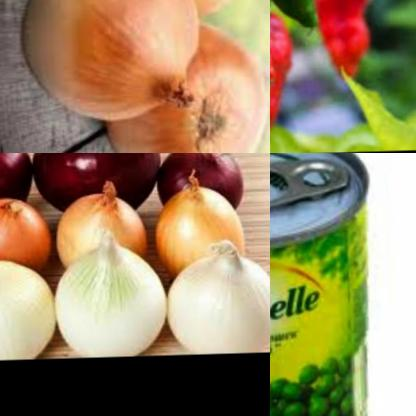hot pepper: (304, 0, 378, 95)
onion: (17, 0, 206, 129), (94, 27, 269, 153), (48, 233, 167, 359), (159, 243, 270, 356), (152, 175, 245, 278), (52, 181, 150, 277), (30, 153, 158, 217), (0, 254, 55, 361), (155, 153, 242, 218), (106, 0, 254, 35), (0, 193, 51, 271), (0, 153, 38, 215)
peas: (270, 348, 362, 416)
